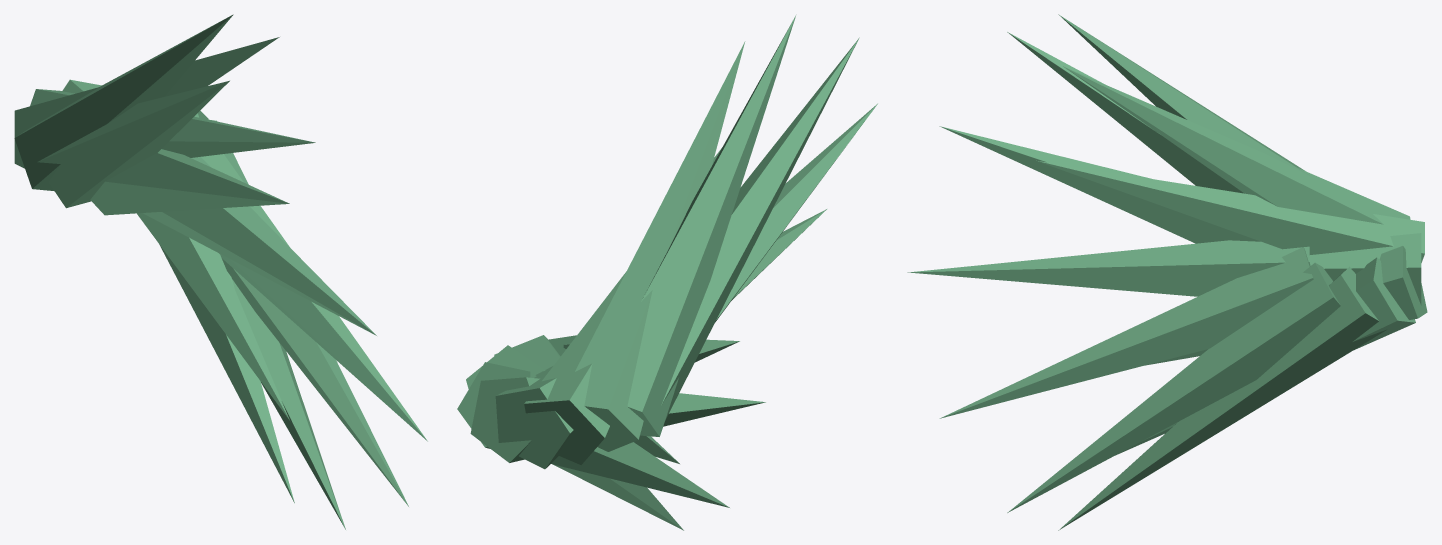
Rendered from fern_cluster.glb.
The picture shows the model from 3 angles, left to right: view 1: azimuth 30°, elevation 25°; view 2: azimuth 150°, elevation 25°; view 3: azimuth 270°, elevation 25°; orthographic projection. The views are drawn at different scales.
Visible parts, largest first — view 1: fern5, fern6, fern3, fern4, fern1, fern2, fern10, fern0, fern11, fern8, fern7; view 2: fern6, fern7, fern5, fern11, fern8, fern9, fern10, fern4, fern0, fern1, fern3, fern2; view 3: fern1, fern2, fern3, fern8, fern0, fern7, fern4, fern6, fern5, fern11, fern9, fern10.
Boxes of the visible parts, x1,y1,x2,y2 form: fern5: (37,80,229,208); fern6: (14,14,233,191); fern3: (143,157,376,335); fern4: (90,149,289,215); fern1: (209,119,408,506); fern2: (201,154,427,441); fern10: (137,213,289,420); fern0: (194,110,345,529); fern11: (159,244,294,503); fern8: (30,89,315,157); fern7: (14,37,279,168); fern6: (627,15,795,436); fern7: (575,41,745,451); fern5: (661,37,859,420); fern11: (457,362,729,507); fern8: (524,147,722,464); fern9: (495,366,573,469); fern10: (470,377,765,462); fern4: (715,103,877,322); fern0: (466,345,683,530); fern1: (494,335,679,463); fern3: (563,209,826,348); fern2: (548,335,739,362); fern1: (1007,262,1340,512); fern2: (939,247,1313,418); fern3: (907,240,1309,296); fern8: (1036,160,1424,262); fern0: (1058,266,1386,530); fern7: (1063,66,1410,224); fern4: (939,126,1260,243); fern6: (1058,14,1309,175); fern5: (1007,32,1244,193); fern11: (1117,257,1415,454); fern9: (1309,233,1421,305); fern10: (1145,246,1427,365).
Size of the model in its own units: 0.8298 by 2.32 by 2.33.
